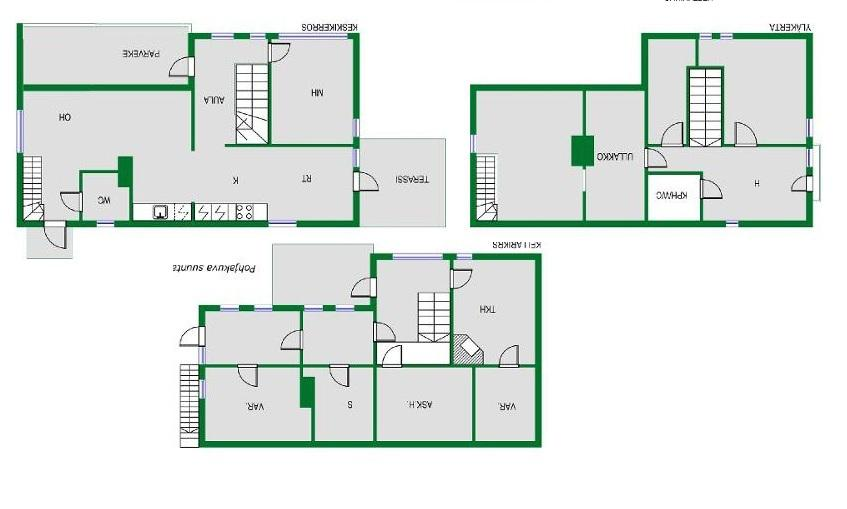bathroom: (82, 172, 130, 222)
door: (42, 221, 69, 252), (731, 121, 758, 147), (370, 319, 397, 345), (352, 170, 382, 193), (661, 122, 688, 147), (237, 362, 261, 390), (178, 326, 208, 348), (265, 40, 291, 65), (167, 57, 196, 79), (449, 269, 476, 292), (327, 364, 351, 389), (279, 329, 304, 353), (351, 278, 378, 300), (700, 177, 723, 202), (643, 146, 669, 168), (58, 191, 85, 212), (496, 345, 520, 367), (382, 344, 403, 367), (791, 176, 814, 195)
perimeter: (196, 251, 541, 447), (16, 33, 361, 228), (469, 33, 814, 228)
stairs: (235, 66, 269, 144), (690, 71, 722, 148), (418, 291, 452, 344), (181, 364, 199, 447), (23, 156, 44, 220), (478, 156, 496, 222)
window: (387, 249, 447, 263), (14, 101, 28, 160), (273, 30, 353, 40), (265, 218, 300, 231), (348, 115, 363, 141), (467, 130, 479, 159), (215, 302, 245, 313), (94, 219, 120, 231), (197, 373, 207, 404), (804, 114, 815, 142), (330, 303, 360, 313), (718, 219, 743, 231), (302, 302, 327, 314), (246, 30, 269, 42), (206, 33, 240, 41), (804, 146, 814, 171), (452, 251, 476, 261), (696, 31, 718, 41), (251, 304, 278, 312), (353, 146, 361, 171), (716, 32, 736, 41), (197, 347, 205, 368)
